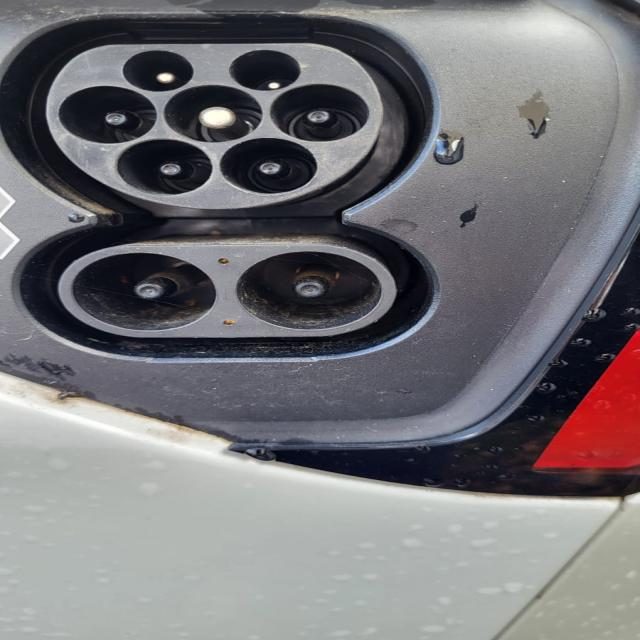inlet: (45, 44, 383, 210)
inlet-above-left: (122, 50, 193, 92)
inlet-above-right: (229, 49, 300, 91)
inlet-below-left: (116, 138, 212, 195)
inlet-below-right: (219, 138, 318, 195)
inlet-circle: (162, 85, 262, 143)
inlet-circle-left: (58, 86, 157, 144)
inlet-circle-right: (268, 83, 368, 142)
inlet-minus: (236, 251, 383, 330)
inlet-plus: (72, 252, 218, 332)
